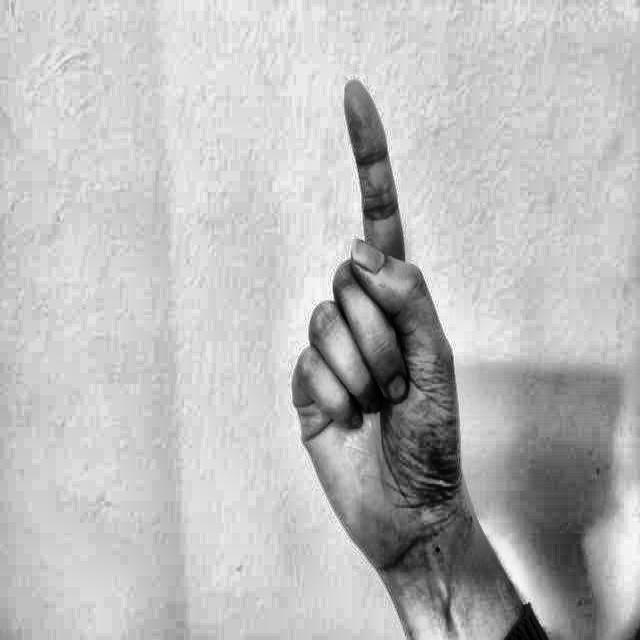U: (259, 47, 514, 562)
